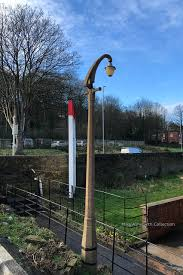light_pole: (78, 70, 108, 272)
